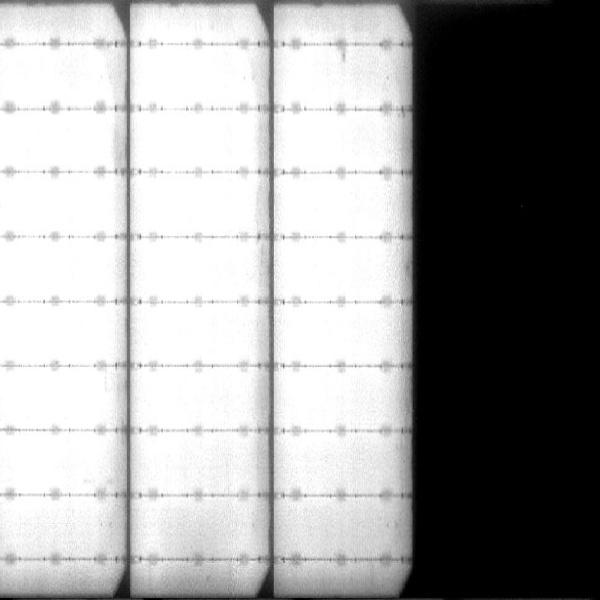hot_spot: (1, 241, 109, 297), (1, 306, 107, 362), (143, 371, 257, 423), (141, 46, 244, 103), (144, 176, 252, 230), (144, 246, 256, 298), (140, 115, 255, 165), (144, 309, 255, 359), (1, 180, 110, 230), (1, 370, 105, 422), (1, 115, 101, 167), (1, 438, 101, 490), (289, 311, 372, 359), (285, 182, 356, 225), (289, 246, 355, 287), (284, 119, 345, 158), (291, 372, 337, 420)
no_electricity: (414, 7, 600, 597)
